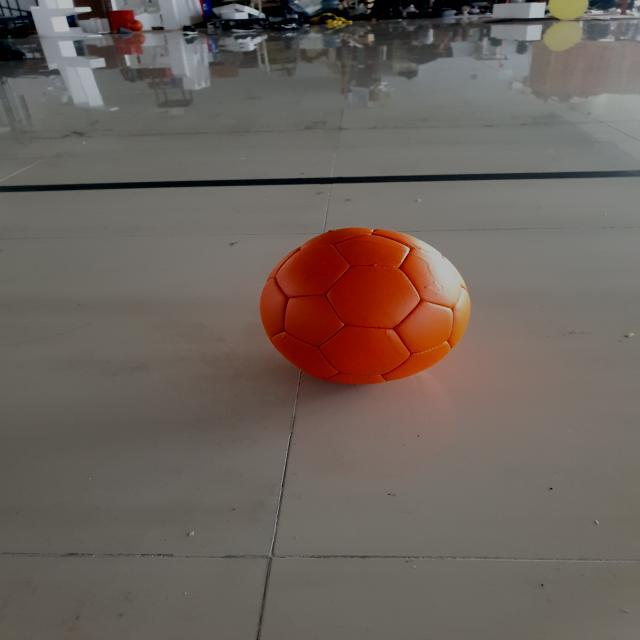bola: (252, 224, 478, 393)
